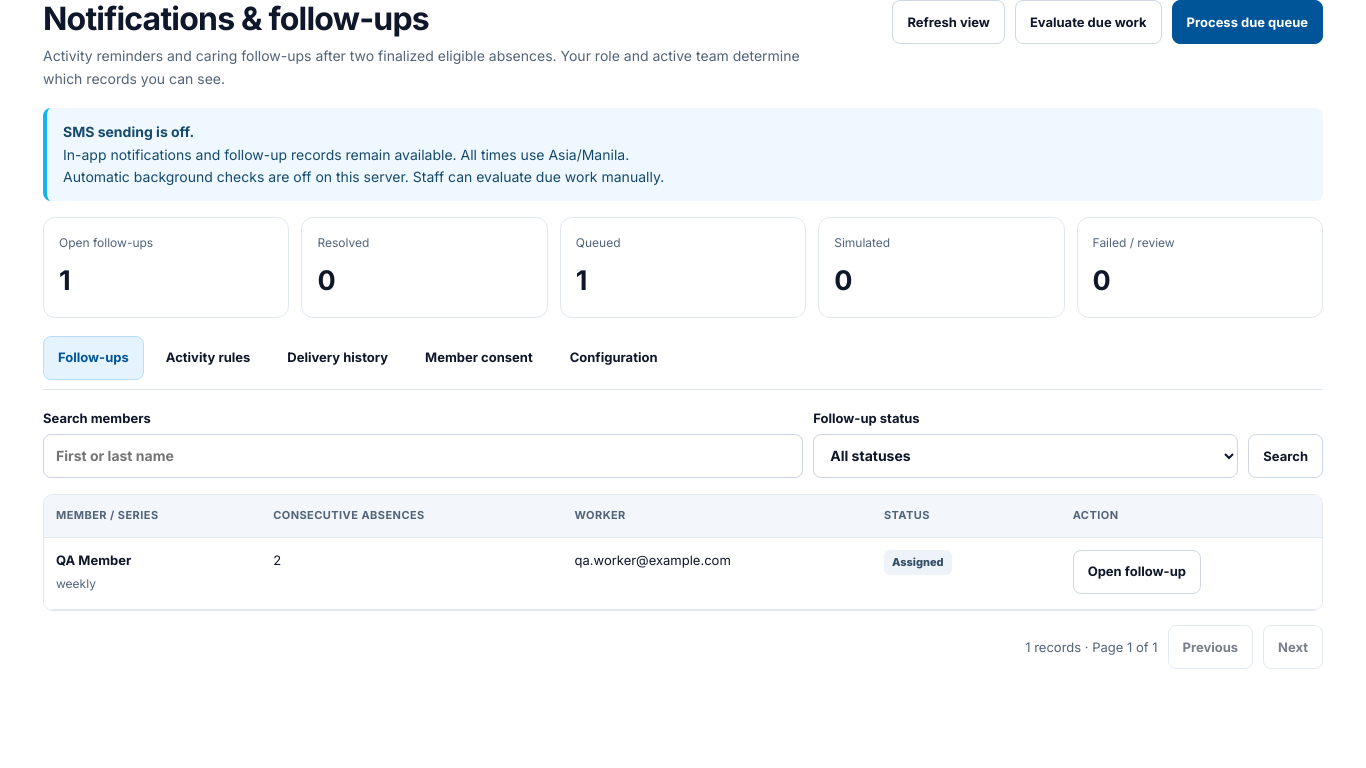
Test: requires a note and submits a revision when resolving a case
This screenshot has width=1366, height=768.
Click the button "Open follow-up" at coordinates (1137, 572), box [1073,550,1201,594]
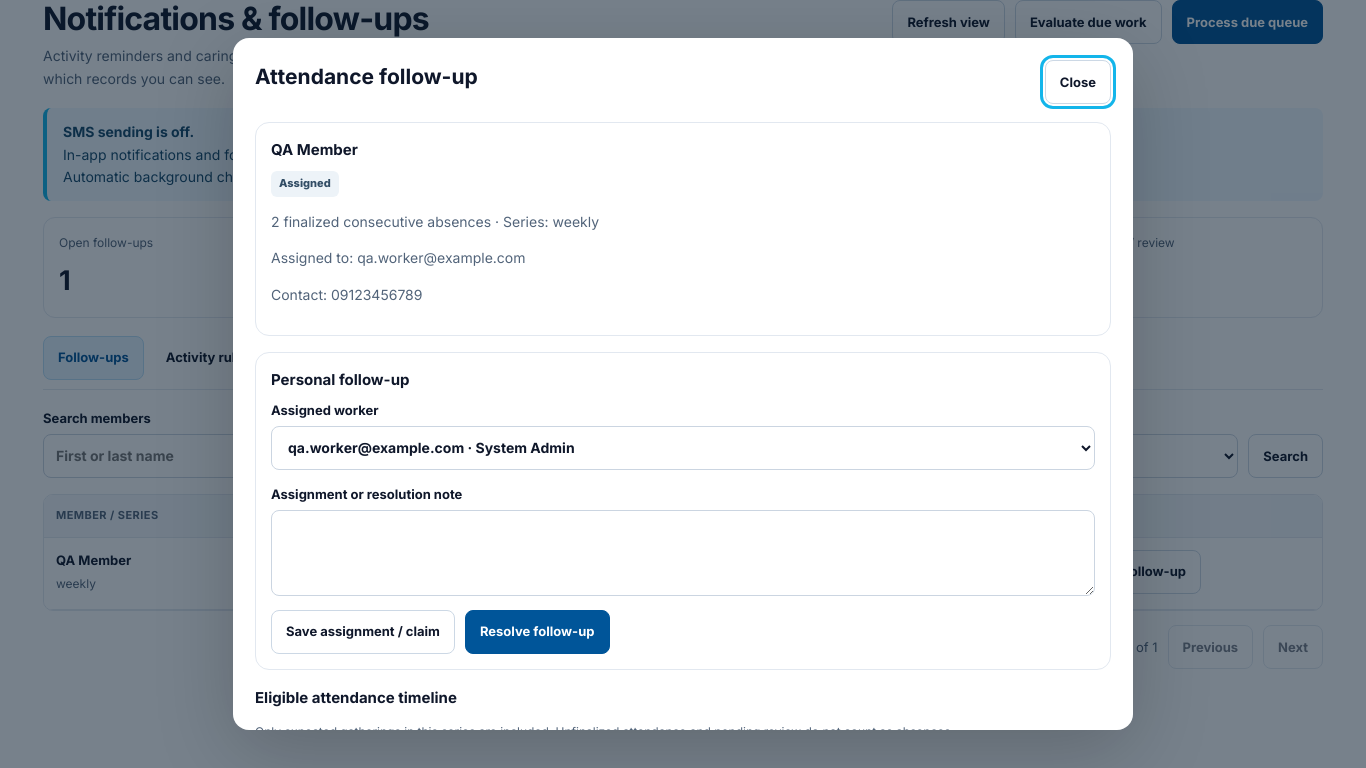
Result: the dialog "Attendance follow-up" is shown at [233,38,1133,730]
Click the button "Resolve follow-up" at coordinates (537, 632), box [465,610,610,654]
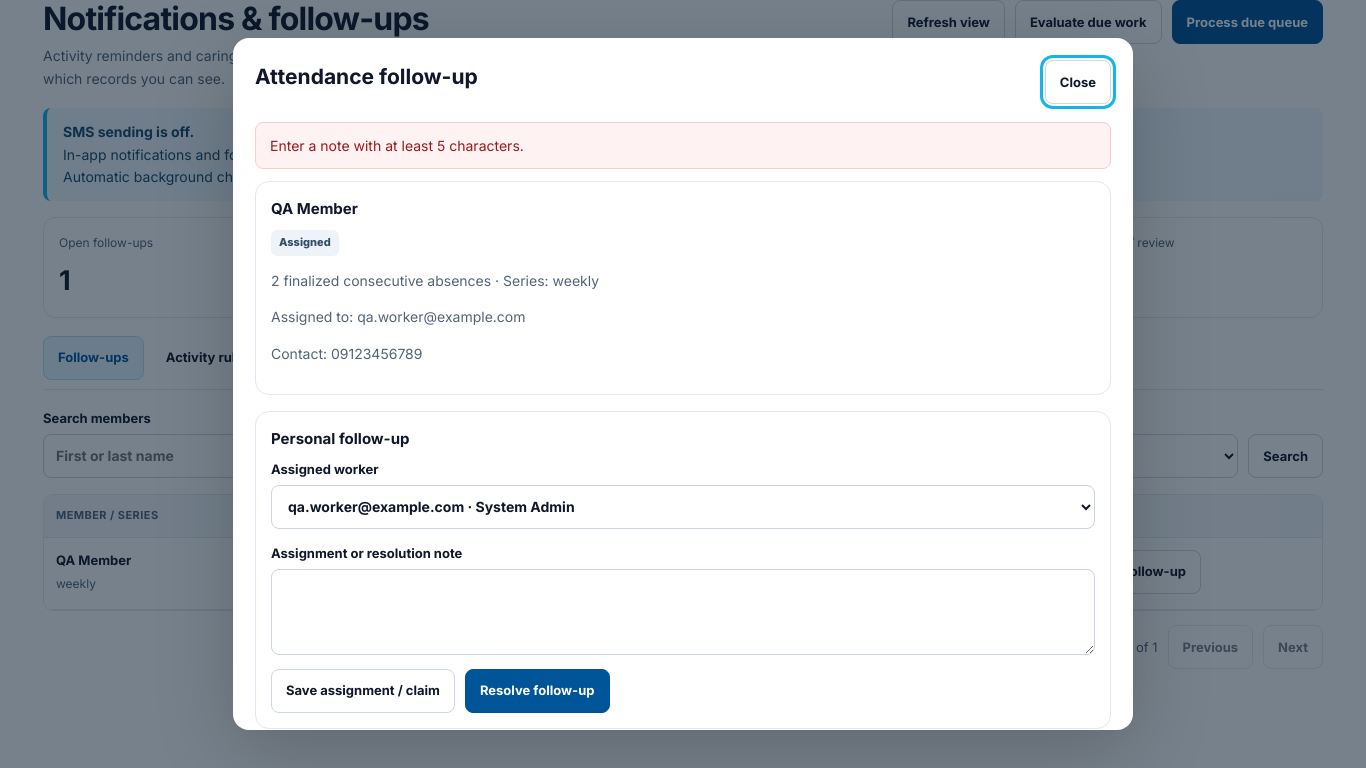
Result: the message shows "at least 5 characters" at [270,137,524,154]
Type "QA personal care completed" into the text box labelled "Assignment or resolution note" at coordinates (683, 612), box [271,569,1095,655]
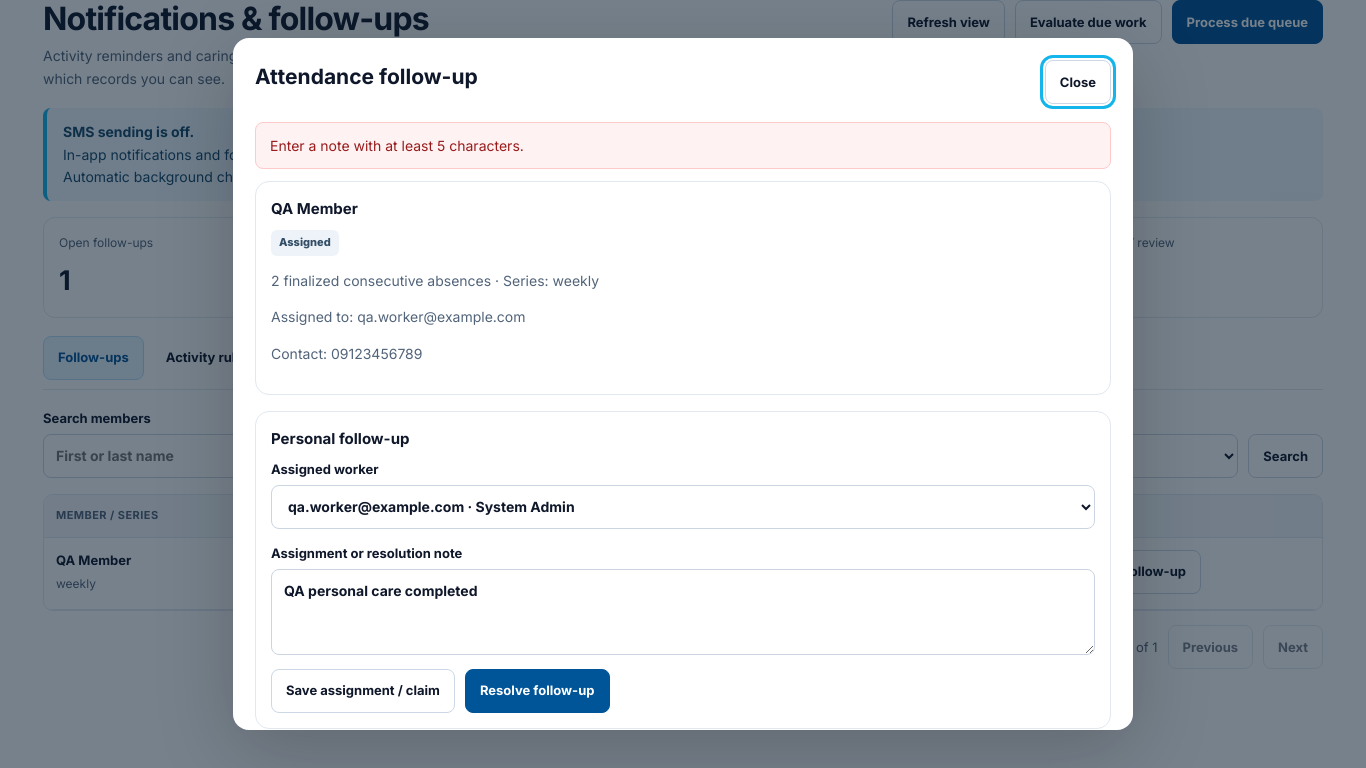
Click the button "Resolve follow-up" at coordinates (537, 691), box [465,669,610,713]
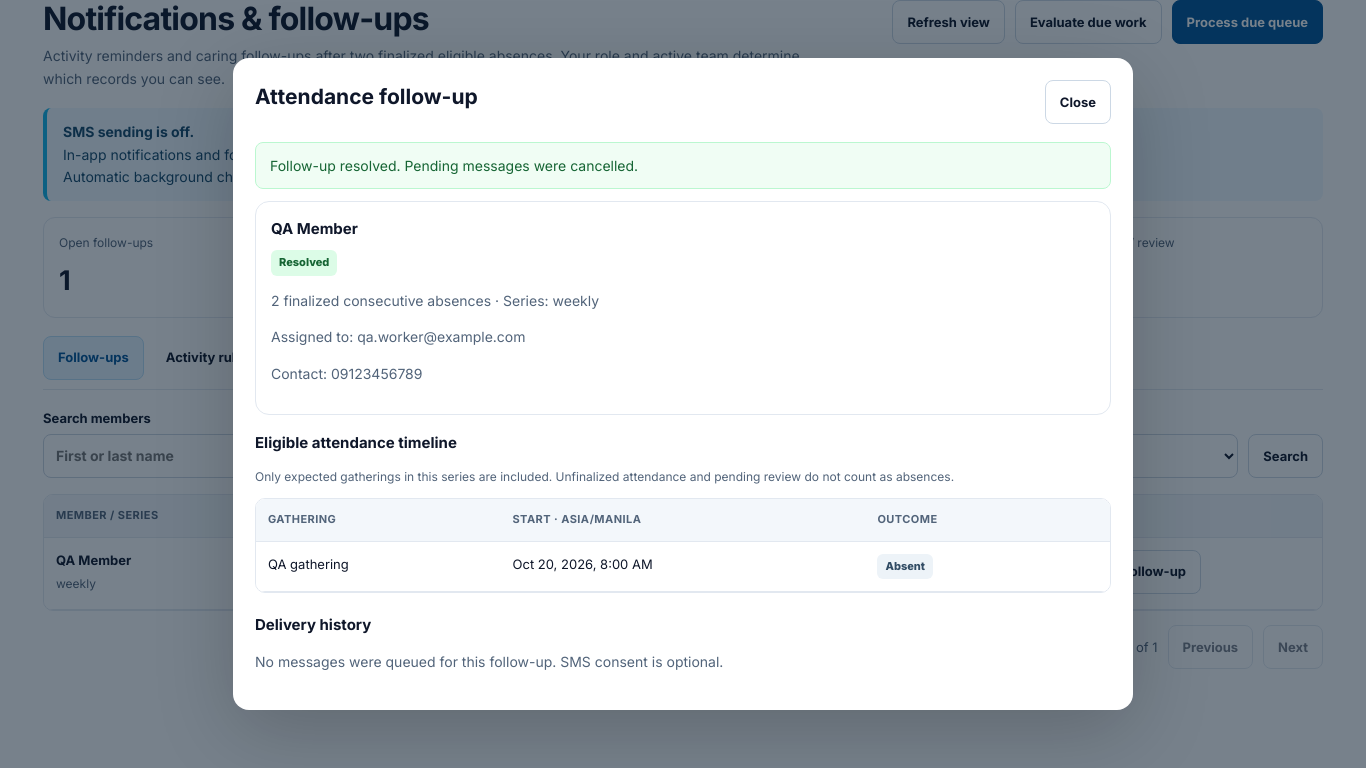
Result: the text "Follow-up resolved. Pending messages were cancelled." is shown at [255,142,1111,189]
